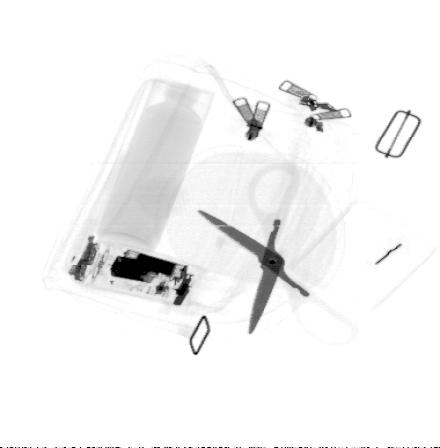Scissors: (197, 162, 359, 350)
